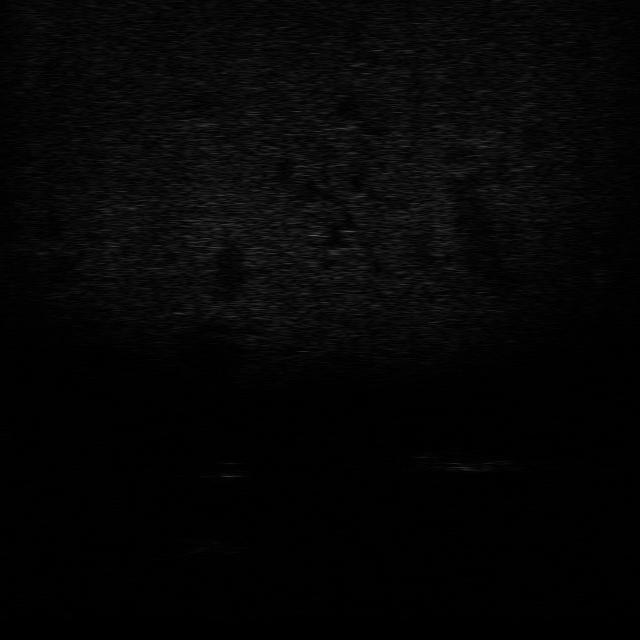ball: (203, 452, 255, 480)
circle cage: (174, 534, 238, 566)
human body: (405, 443, 520, 475)
